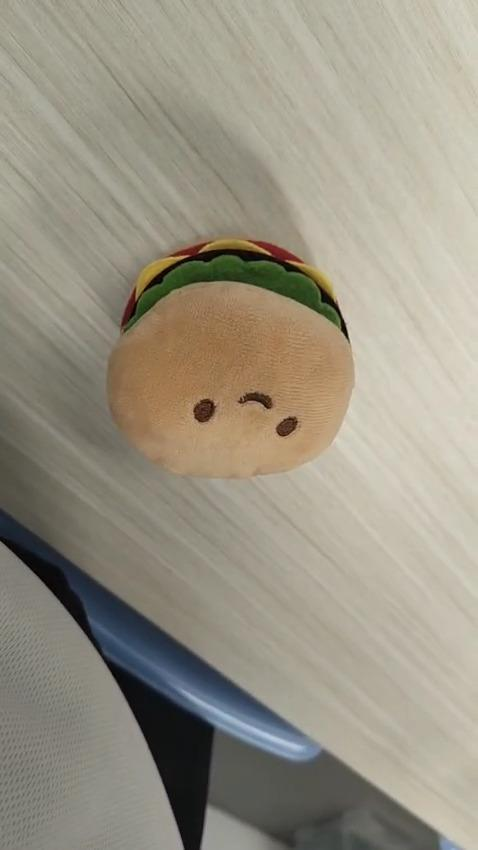hamburger: (113, 228, 359, 485)
